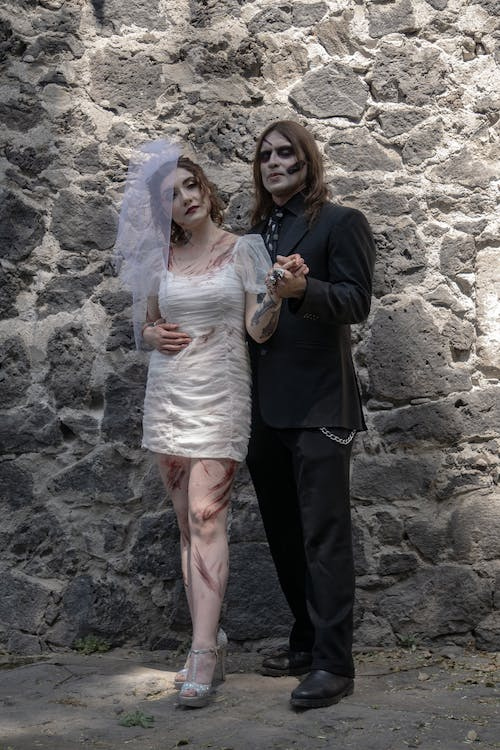blood: (191, 450, 235, 600), (161, 231, 239, 276), (161, 449, 193, 553), (282, 158, 311, 177)
